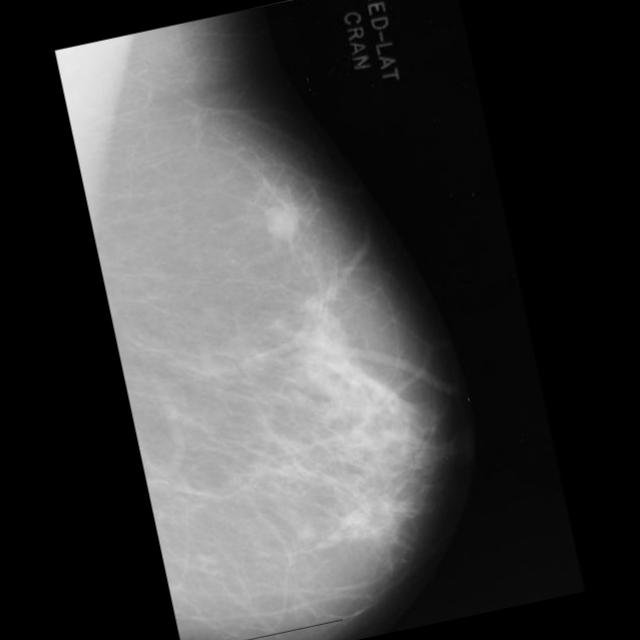CIRC: (261, 198, 304, 242)
